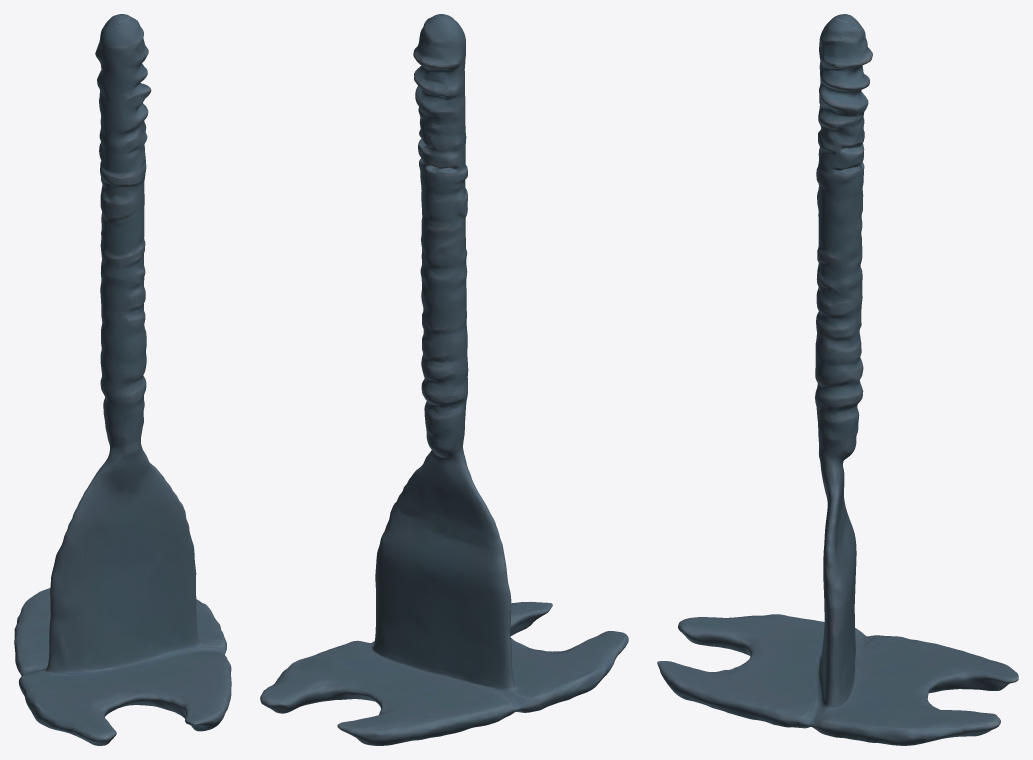
File: levelling-spacer-post-sl.glb
3 views of the same model, side by side, from view 1: azimuth 30°, elevation 25°; view 2: azimuth 150°, elevation 25°; view 3: azimuth 270°, elevation 25° (orthographic). The views are drawn at different scales.
Parts seen in each view (by area): view 1: tripo_node_8634e116-8492-4714-97d2-116a53ab2e9d; view 2: tripo_node_8634e116-8492-4714-97d2-116a53ab2e9d; view 3: tripo_node_8634e116-8492-4714-97d2-116a53ab2e9d.
Boxes of the visible parts, x1,y1,x2,y2 form: tripo_node_8634e116-8492-4714-97d2-116a53ab2e9d: [14, 14, 231, 745]; tripo_node_8634e116-8492-4714-97d2-116a53ab2e9d: [260, 14, 628, 745]; tripo_node_8634e116-8492-4714-97d2-116a53ab2e9d: [657, 14, 1018, 745].
Size of the model in its own units: 0.378 by 1 by 0.4855.
Materials: 1 (1 with a texture image).
